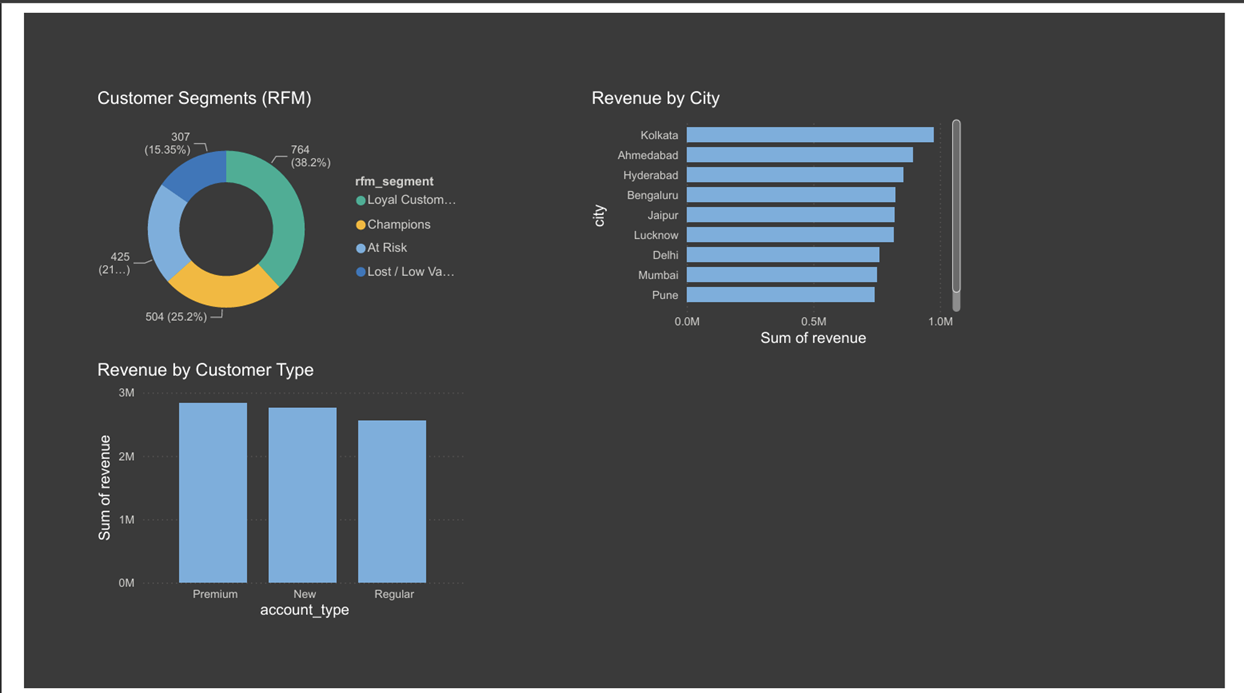

The page's visual inventory and layout, read from the dashboard file:
{"tool":"powerbi","page":{"name":"Page 2","canvas":[1280,720],"ordinal":1},"visuals":[{"type":"donutChart","title":"Customer Segments (RFM)","fields":{"Category":["bigbasket_analysis vw_customer_rfm.rfm_segment"],"Y":["Count(bigbasket_analysis vw_customer_rfm.customer_id)"]},"box":[72.7,79.6,403.4,279.9],"z":0},{"type":"clusteredBarChart","title":"Revenue by City","fields":{"Category":["bigbasket_analysis vw_orders_full.city"],"Y":["Sum(bigbasket_analysis vw_orders_full.revenue)"]},"box":[599.7,79.6,403.4,279.9],"z":1},{"type":"clusteredColumnChart","title":"Revenue by Customer Type","fields":{"Category":["bigbasket_analysis vw_customer_rfm.account_type"],"Y":["Sum(bigbasket_analysis vw_orders_full.revenue)"]},"box":[73,370,403,280],"z":2}]}

Visuals, with their boxes in screenshot pixels (x1, y1, x2, y2), scaled from the page's 1280x720 canvas onto the 1244x693 screenshot:
"Customer Segments (RFM)" donutChart: (71,77,463,346)
"Revenue by City" clusteredBarChart: (583,77,975,346)
"Revenue by Customer Type" clusteredColumnChart: (71,356,463,626)
